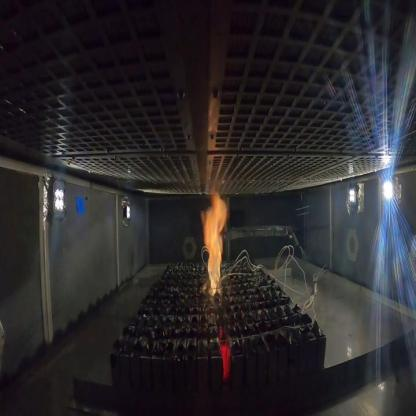fire: (195, 188, 236, 308)
